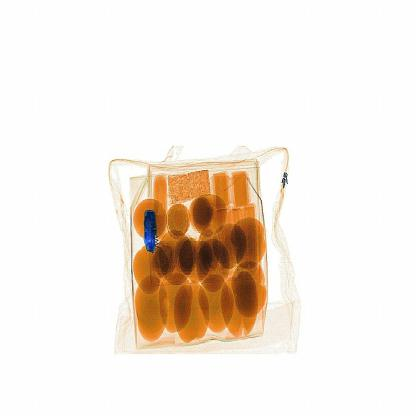scissors: (136, 198, 169, 256)
